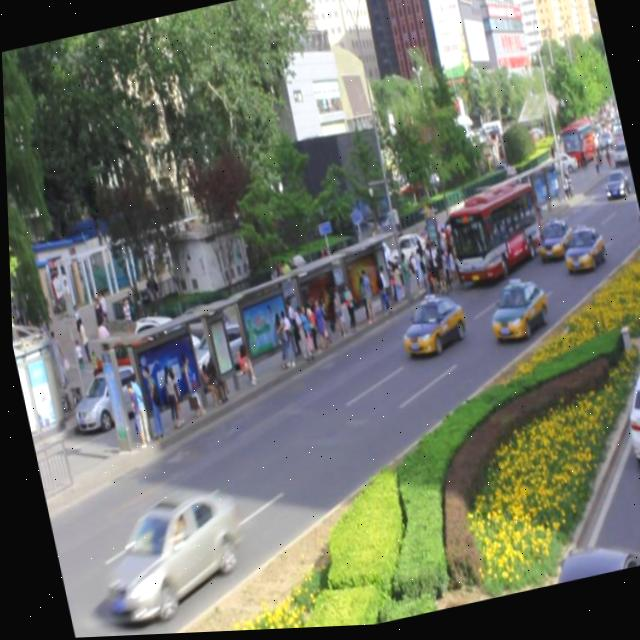car: (84, 481, 248, 626), (392, 293, 466, 364), (478, 278, 550, 349), (554, 226, 606, 281), (528, 220, 574, 268)
van: (437, 179, 547, 292)
